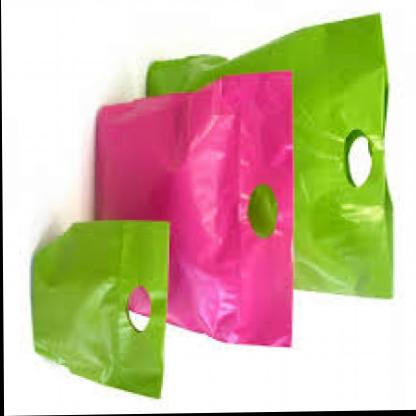Plastic: (26, 3, 400, 393)
